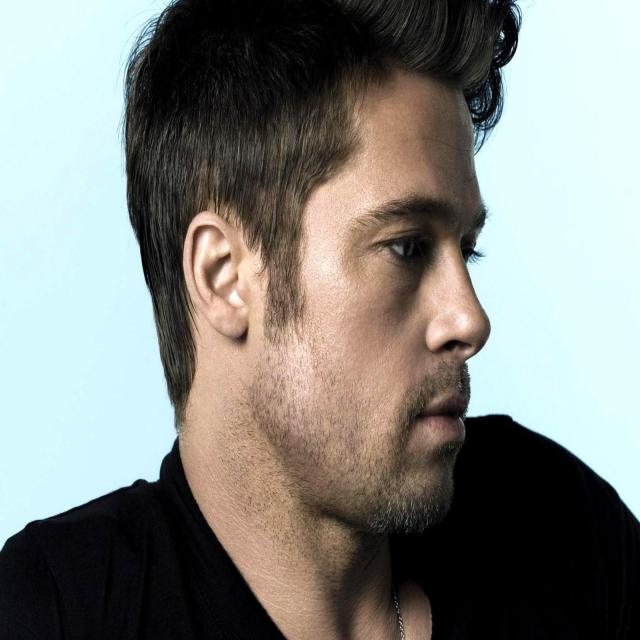no-earmuff: (181, 210, 248, 336)
